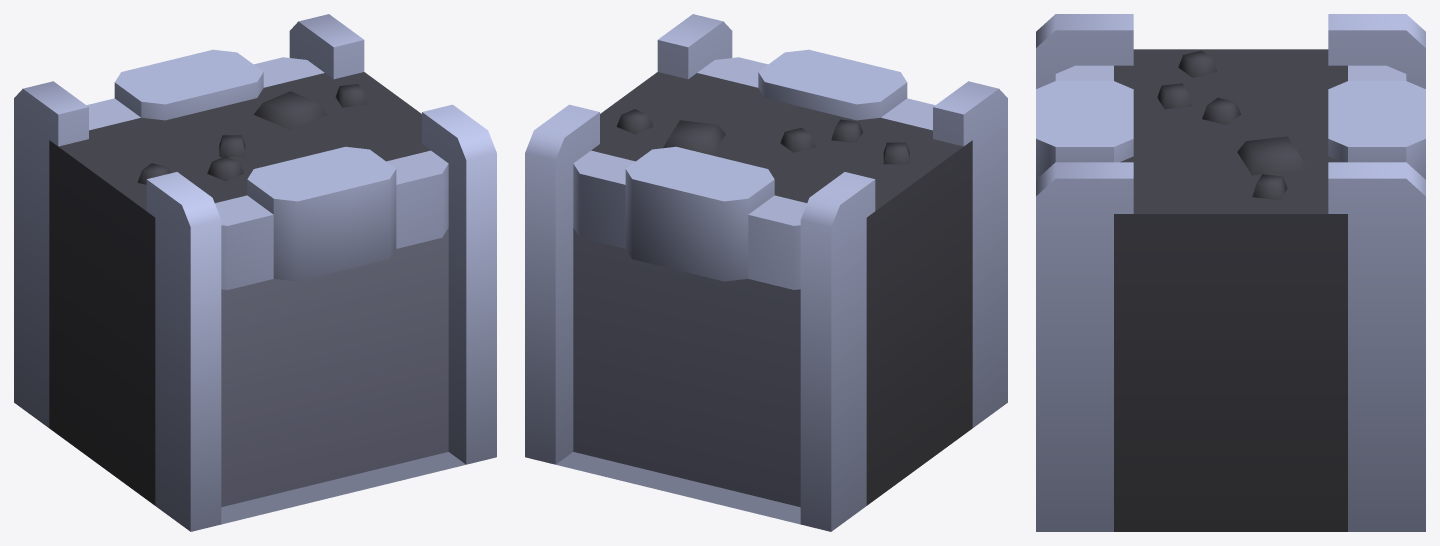
The model's file is wall-narrow.023_lev5.glb.
3 renders of one model, left to right at view 1: azimuth 30°, elevation 25°; view 2: azimuth 150°, elevation 25°; view 3: azimuth 270°, elevation 25°, orthographic. The views are drawn at different scales.
Parts seen in each view (by area): view 1: wall-narrow.023_lev5; view 2: wall-narrow.023_lev5; view 3: wall-narrow.023_lev5.
Boxes of the visible parts, x1,y1,x2,y2 form: wall-narrow.023_lev5: (14, 14, 496, 531); wall-narrow.023_lev5: (525, 14, 1007, 531); wall-narrow.023_lev5: (1036, 14, 1425, 531).
Bounding box in the file's own units: 10.95 × 10.95 × 10.95.
1 material, 1 textured.
